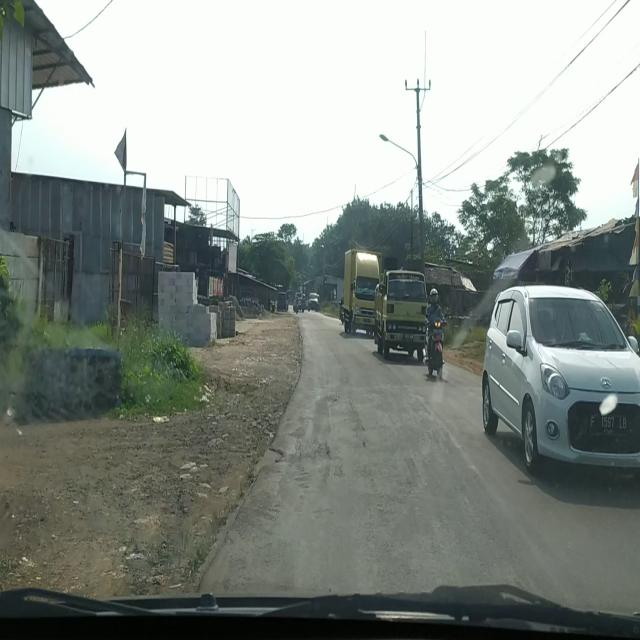Drain Hole: (317, 391, 365, 437), (291, 433, 330, 465)
